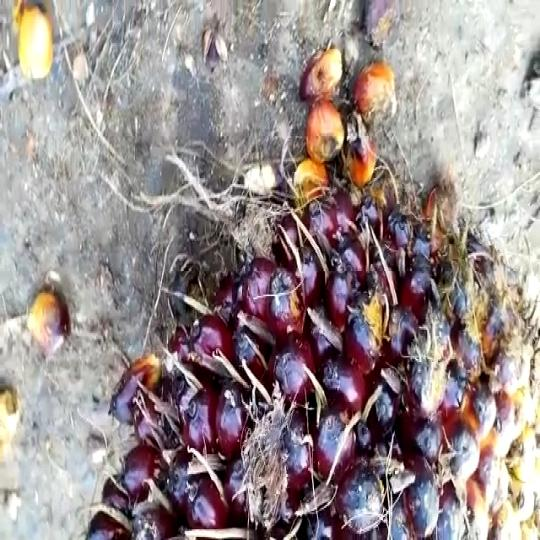kurang masak: (80, 166, 540, 540)
